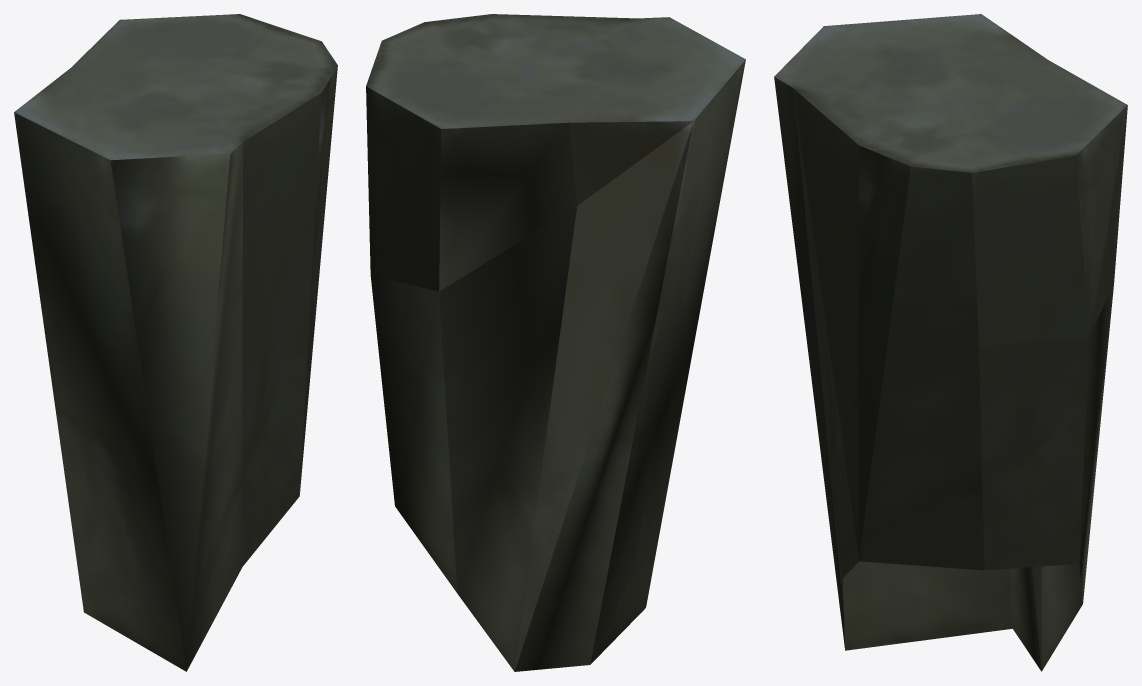
The model's file is yw_newshanlin_stones_001.FBX.
The picture shows the model from 3 angles, left to right: view 1: azimuth 30°, elevation 25°; view 2: azimuth 150°, elevation 25°; view 3: azimuth 270°, elevation 25°; orthographic projection. The views are drawn at different scales.
Parts seen in each view (by area): view 1: yw_newshanlin_stones_001; view 2: yw_newshanlin_stones_001; view 3: yw_newshanlin_stones_001.
Boxes of the visible parts, <box> form: yw_newshanlin_stones_001: <box>14,14,337,671</box>; yw_newshanlin_stones_001: <box>366,14,745,671</box>; yw_newshanlin_stones_001: <box>774,14,1127,671</box>.
Bounding box in the file's own units: 2 × 3.41 × 1.88.
